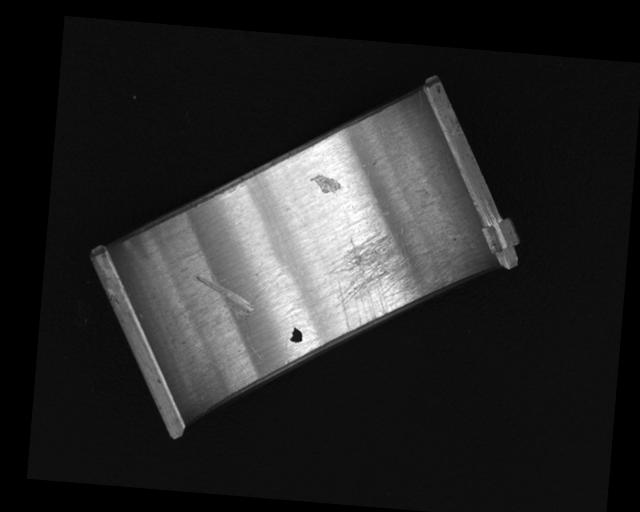blot: (289, 326, 303, 344)
bruise: (308, 174, 343, 196)
nick: (193, 275, 256, 311), (243, 284, 270, 361)
scratch: (319, 224, 447, 340)
